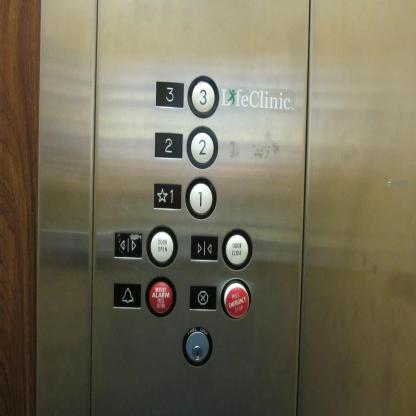1: (185, 176, 217, 220)
2: (186, 126, 218, 168), (154, 132, 182, 159)
3: (187, 74, 219, 119), (154, 80, 184, 110)
alarm: (113, 282, 142, 309)
close: (189, 234, 219, 262)
keyhole: (182, 327, 212, 366)
open: (113, 232, 143, 259)
s1: (153, 183, 182, 210)
stop: (188, 284, 217, 311)
text: (221, 227, 252, 270), (146, 225, 177, 267), (145, 277, 176, 317), (221, 278, 251, 319)
